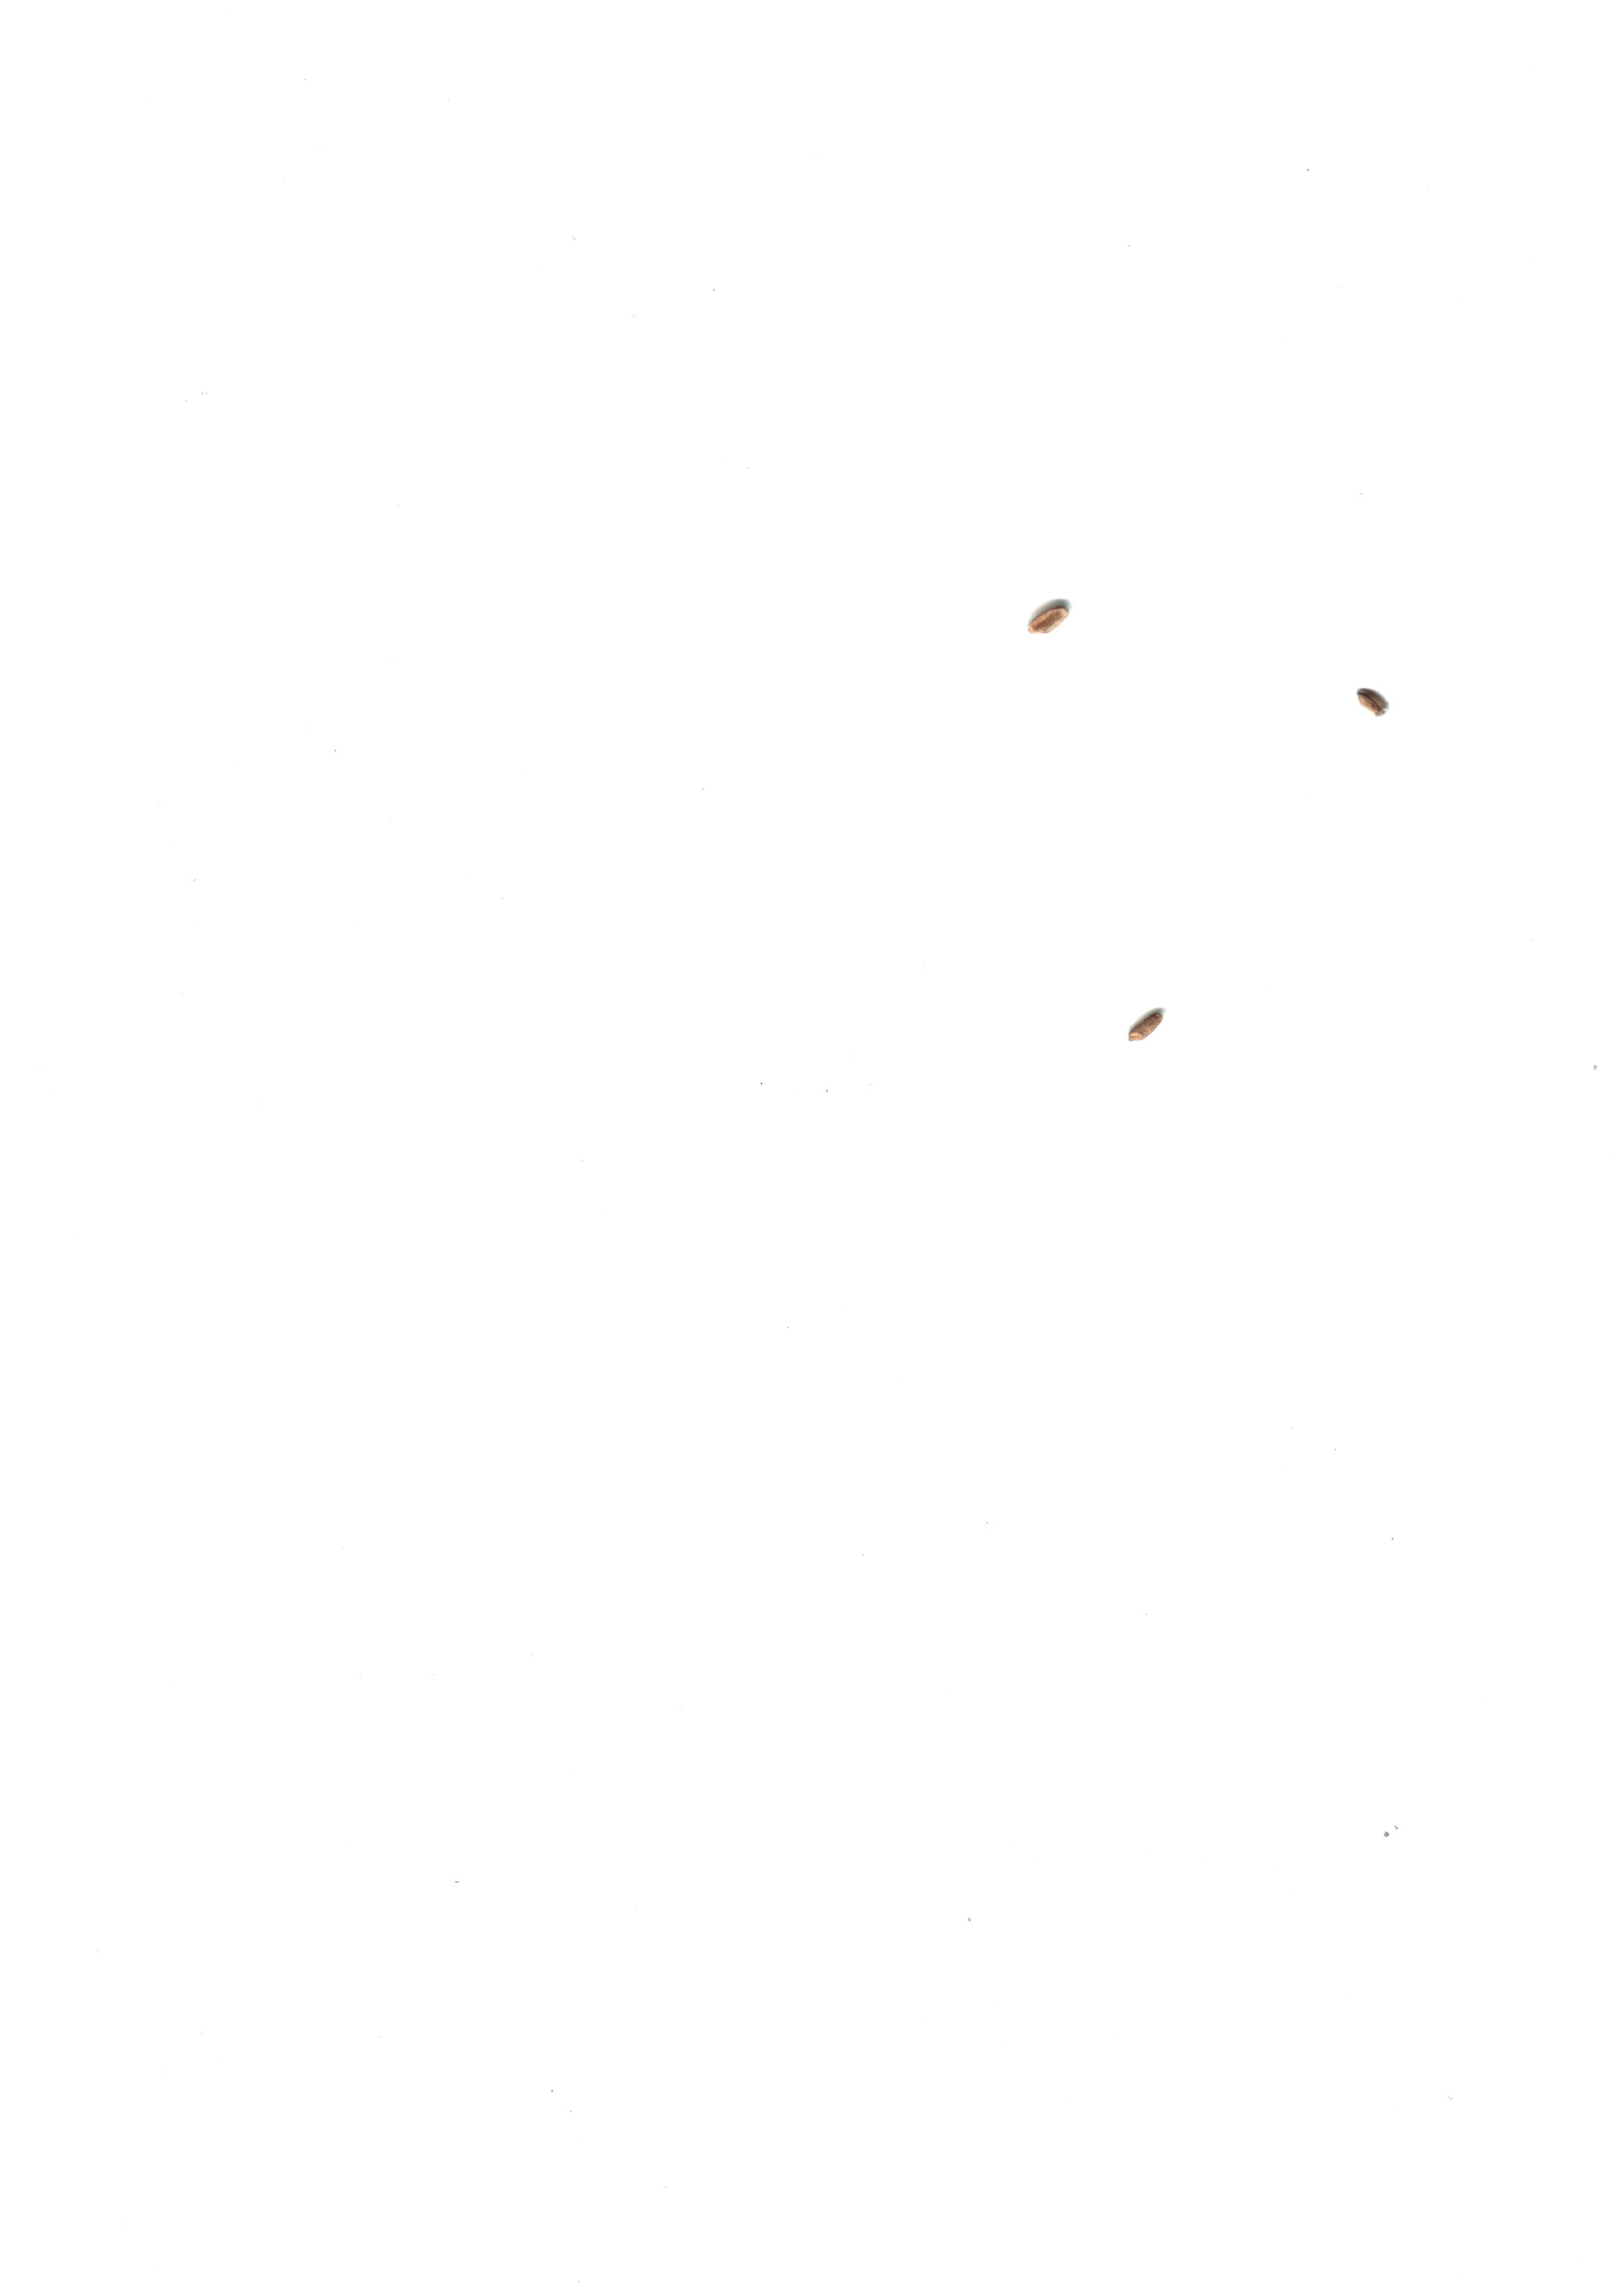grains_2mm: (1015, 580, 1097, 659), (1106, 980, 1186, 1059), (1333, 657, 1414, 736)
